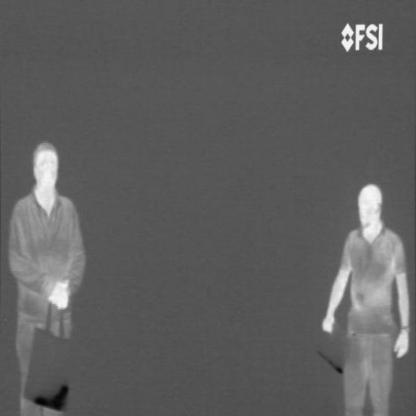weapon: (32, 380, 71, 414)
